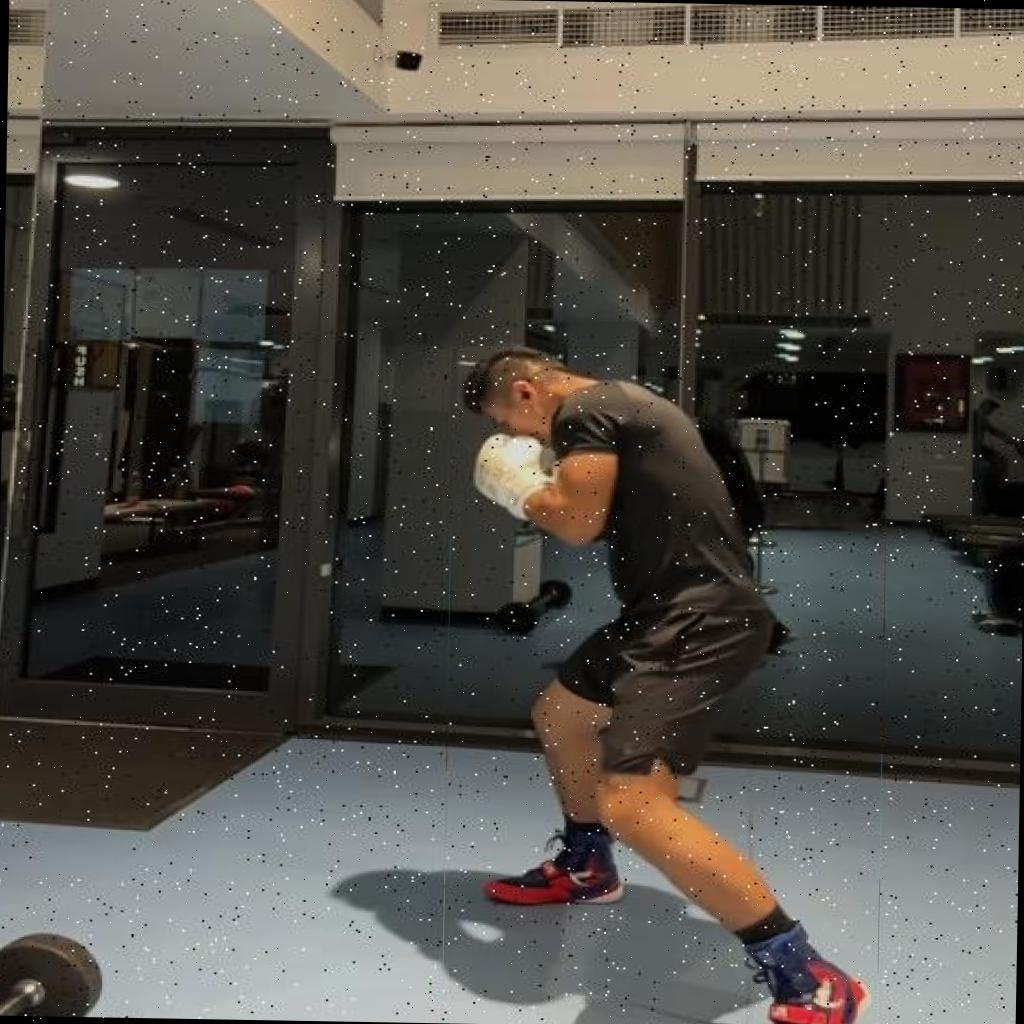no punch: (441, 345, 888, 1024)
